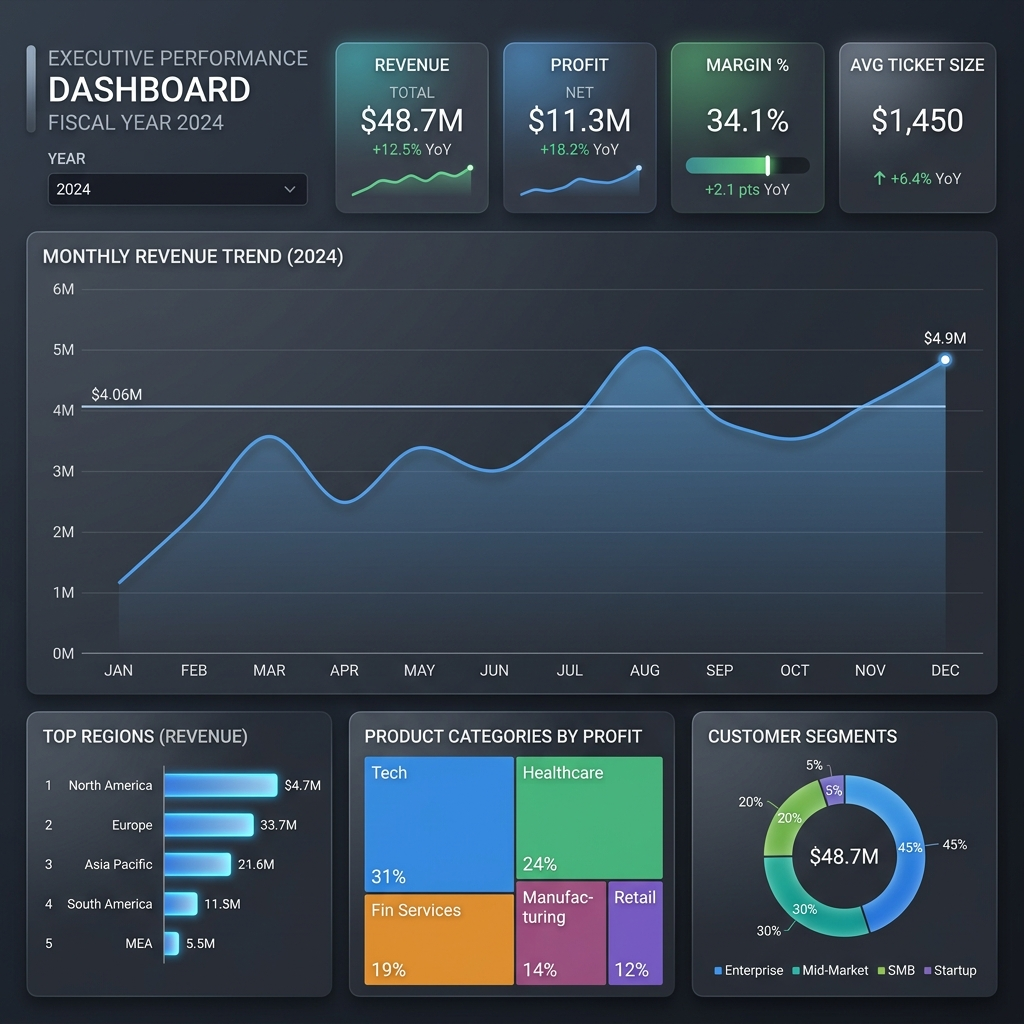

Layout of this report page (visuals, bound fields, positions):
{"tool":"powerbi","page":{"name":"Overview","canvas":[1280,720],"ordinal":0},"visuals":[{"type":"textbox","box":[10.1,0,744.1,48.7],"z":0},{"type":"clusteredBarChart","title":"Desempeño Regional: ","fields":{"Category":["Andes_Retail_Group_2024_2025.País"],"Y":["MEDIDAS.Total Ingresos"]},"box":[9.8,449.1,422.9,270.4],"z":0,"group":"g1"},{"type":"slicer","fields":{"Values":["Andes_Retail_Group_2024_2025.Fecha_Pedido.Variación.Jerarquía de fechas.Año","Andes_Retail_Group_2024_2025.Fecha_Pedido.Variación.Jerarquía de fechas.Mes"]},"box":[1005.7,2.1,274.3,76.5],"z":1000},{"type":"lineClusteredColumnComboChart","title":"Análisis de Mix Comercial: Deportes tracciona el mayor volumen, pero Electrónica lidera la creación de valor","fields":{"Category":["Andes_Retail_Group_2024_2025.Categoría_Producto"],"Y":["MEDIDAS.Total Ingresos"],"Y2":["MEDIDAS.Margen %"]},"box":[433.5,449.1,409.3,270.4],"z":1000,"group":"g1"},{"type":"card","fields":{"Values":["MEDIDAS.Total Ingresos"]},"box":[231.1,49.5,202.1,73],"z":2000,"group":"g2"},{"type":"lineChart","title":"Tendencia Mensual: La Ganancia mantiene una relación proporcional estable frente a la estacionalidad de los Ingresos","fields":{"Category":["Andes_Retail_Group_2024_2025.Fecha_Pedido.Variación.Jerarquía de fechas.Año","Andes_Retail_Group_2024_2025.Fecha_Pedido.Variación.Jerarquía de fechas.Mes"],"Y":["MEDIDAS.Total Ingresos","MEDIDAS.Total Ganancia"]},"box":[11.5,122.9,1268.5,326.1],"z":2000},{"type":"donutChart","title":"Estructura de Ventas por Valor: La mayor parte de la facturación proviene de pedidos de tipo Venta Alta","fields":{"Category":["Andes_Retail_Group_2024_2025.Nivel_Venta"],"Y":["MEDIDAS.Total Ingresos"]},"box":[843.7,449.2,436.2,270.3],"z":2000,"group":"g1"},{"type":"card","fields":{"Values":["MEDIDAS.Total Ganancia"]},"box":[422.4,49.2,201.8,72.5],"z":3000,"group":"g2"},{"type":"group","id":"g1","title":"Grupo 1","box":[9.8,449.1,1270.2,270.4],"z":3000},{"type":"group","id":"g2","title":"Grupo 2","box":[231.1,49.2,775.2,72.1],"z":4000},{"type":"card","fields":{"Values":["MEDIDAS.Margen %"]},"box":[613.3,49.3,201.8,72.5],"z":4000,"group":"g2"},{"type":"card","fields":{"Values":["MEDIDAS.Ticket Promedio"]},"box":[804.2,49.4,201.8,72.5],"z":5000,"group":"g2"}]}

Visuals, with their boxes on the page's 1280x720 design canvas (x1, y1, x2, y2). These are canvas units, not pixel positions in the 1024x1024 screenshot, which may show the page scaled, cropped or inside an application window:
textbox: x1=10 y1=0 x2=754 y2=49
"Desempeño Regional: " clusteredBarChart: x1=10 y1=449 x2=433 y2=720
slicer - Andes_Retail_Group_2024_2025.Fecha_Pedido.Variación.Jerarquía de fechas.Año x Andes_Retail_Group_2024_2025.Fecha_Pedido.Variación.Jerarquía de fechas.Mes: x1=1006 y1=2 x2=1280 y2=79
"Análisis de Mix Comercial: Deportes tracciona el mayor volumen, pero Electrónica lidera la creación de valor" lineClusteredColumnComboChart: x1=434 y1=449 x2=843 y2=720
card - MEDIDAS.Total Ingresos: x1=231 y1=50 x2=433 y2=122
"Tendencia Mensual: La Ganancia mantiene una relación proporcional estable frente a la estacionalidad de los Ingresos" lineChart: x1=12 y1=123 x2=1280 y2=449
"Estructura de Ventas por Valor: La mayor parte de la facturación proviene de pedidos de tipo Venta Alta" donutChart: x1=844 y1=449 x2=1280 y2=720
card - MEDIDAS.Total Ganancia: x1=422 y1=49 x2=624 y2=122
"Grupo 1" group: x1=10 y1=449 x2=1280 y2=720
"Grupo 2" group: x1=231 y1=49 x2=1006 y2=121
card - MEDIDAS.Margen %: x1=613 y1=49 x2=815 y2=122
card - MEDIDAS.Ticket Promedio: x1=804 y1=49 x2=1006 y2=122
